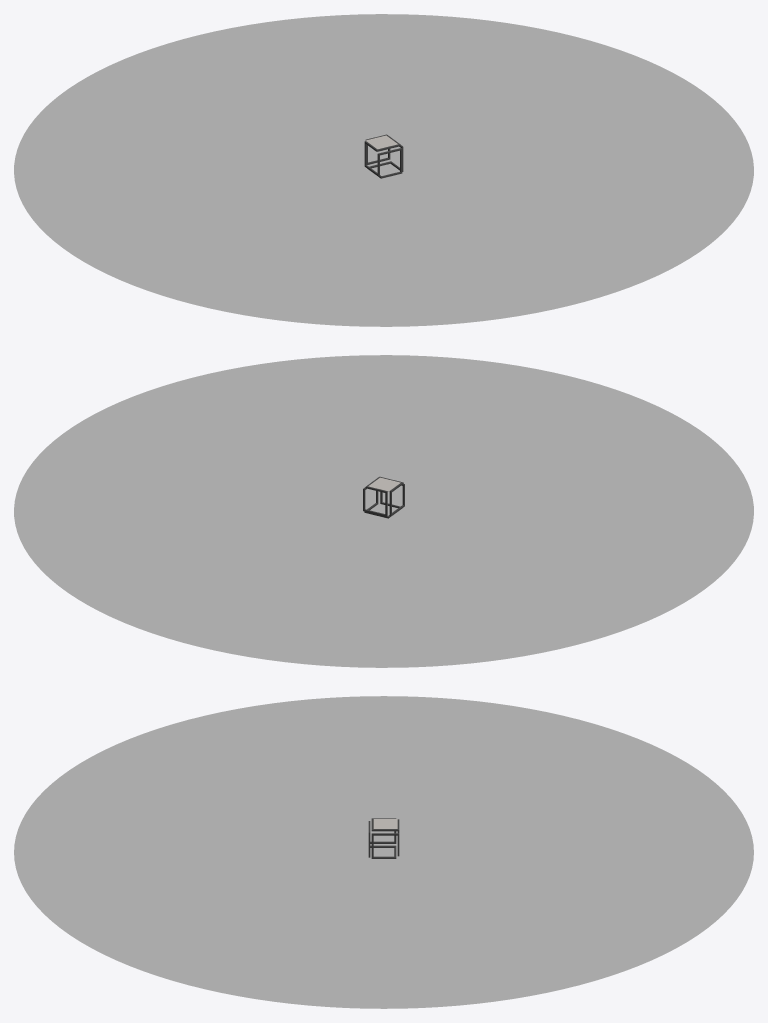
The model's file is PARACUBE.glb.
3 views of the same model, one above another, from view 1: azimuth 30°, elevation 25°; view 2: azimuth 150°, elevation 25°; view 3: azimuth 270°, elevation 25° (orthographic).
Visible parts, largest first — view 1: Infinity Cube Table (Default<As Machined>) Turntable: Part 1, dark powdercoat, dark powdercoat_clonedChild; view 2: Infinity Cube Table (Default<As Machined>) Turntable: Part 1, dark powdercoat, dark powdercoat_clonedChild; view 3: Infinity Cube Table (Default<As Machined>) Turntable: Part 1, dark powdercoat.
Boxes of the visible parts, <box> form: Infinity Cube Table (Default<As Machined>) Turntable: Part 1: <box>14,14,753,326</box>; dark powdercoat: <box>364,134,403,178</box>; dark powdercoat_clonedChild: <box>365,135,402,178</box>; Infinity Cube Table (Default<As Machined>) Turntable: Part 1: <box>14,355,753,667</box>; dark powdercoat: <box>363,476,404,518</box>; dark powdercoat_clonedChild: <box>363,477,404,518</box>; Infinity Cube Table (Default<As Machined>) Turntable: Part 1: <box>14,696,753,1008</box>; dark powdercoat: <box>368,818,399,858</box>.
Bounding box in the file's own units: 11.99 × 0.501 × 11.99.
Materials: 4 (1 with a texture image).
